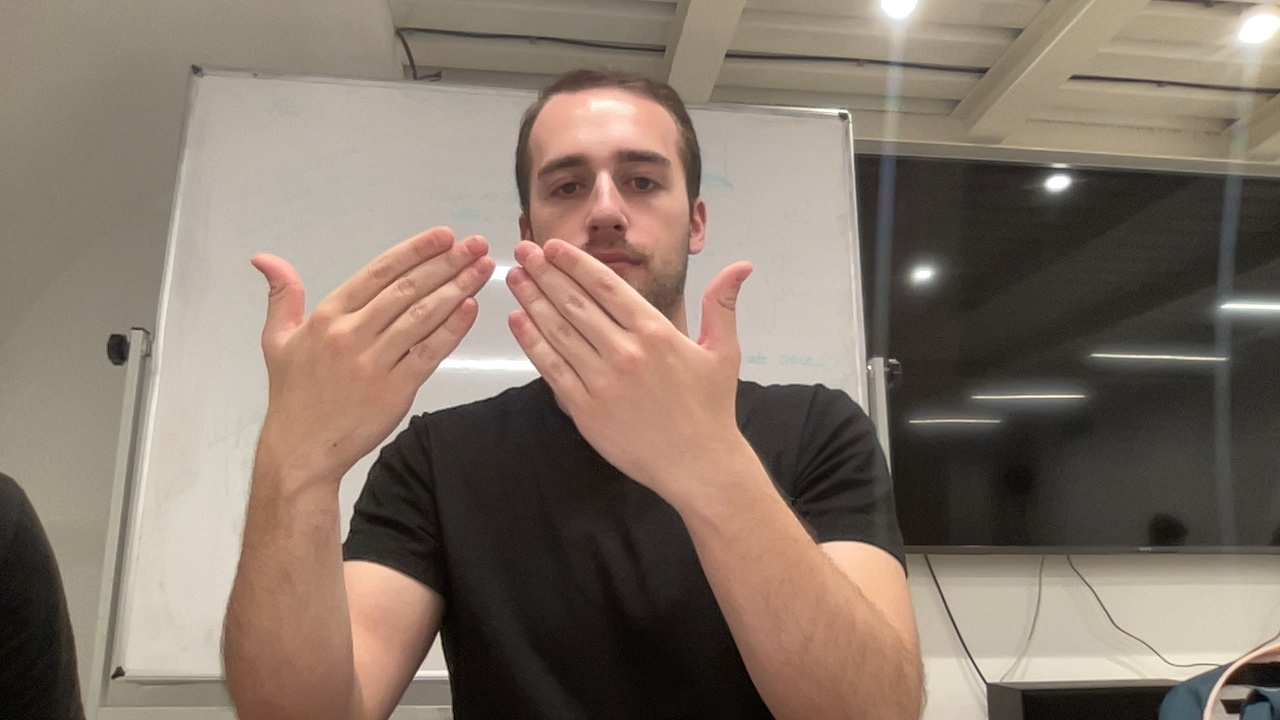Thank You: (237, 222, 769, 516)
